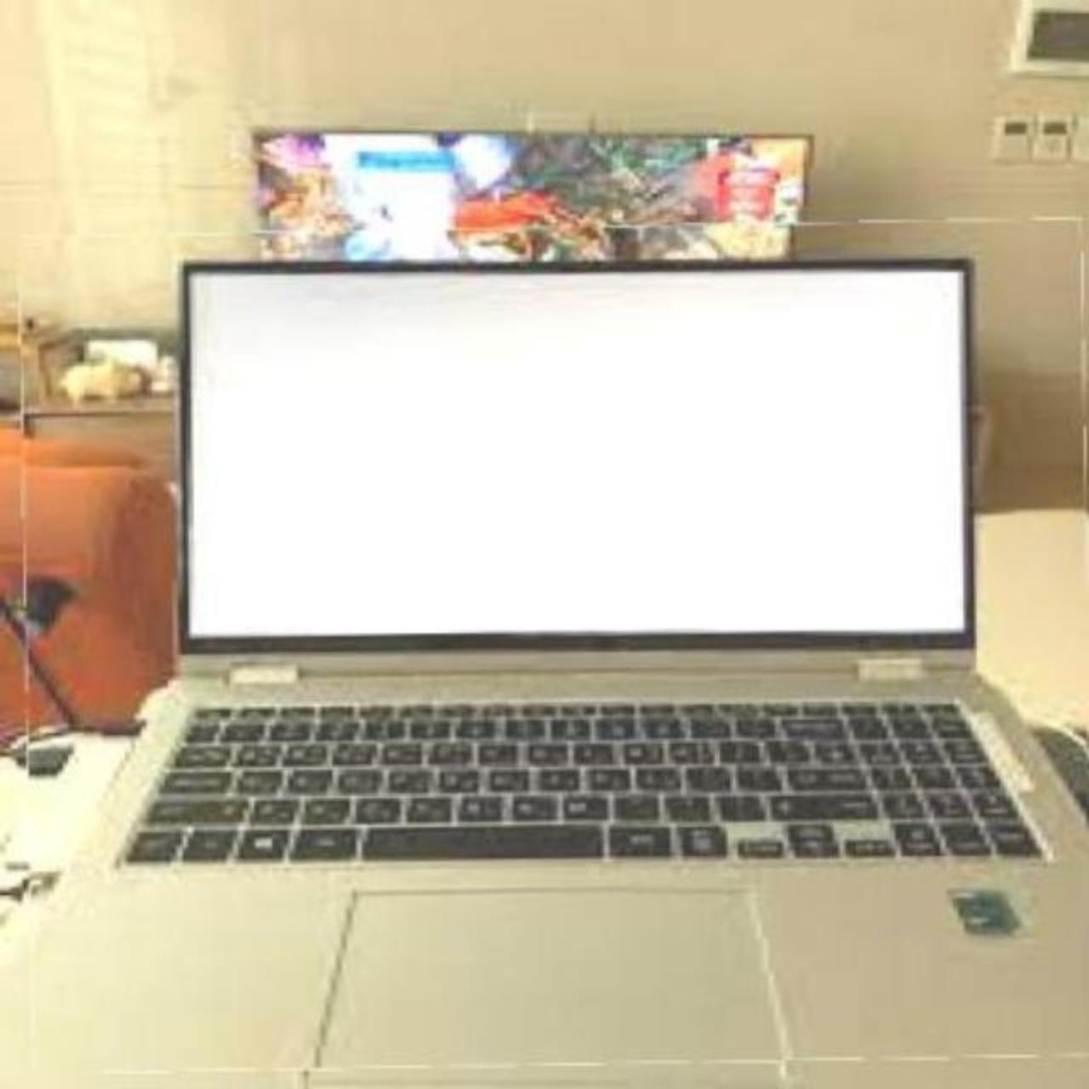laptop: (21, 223, 1088, 1067)
